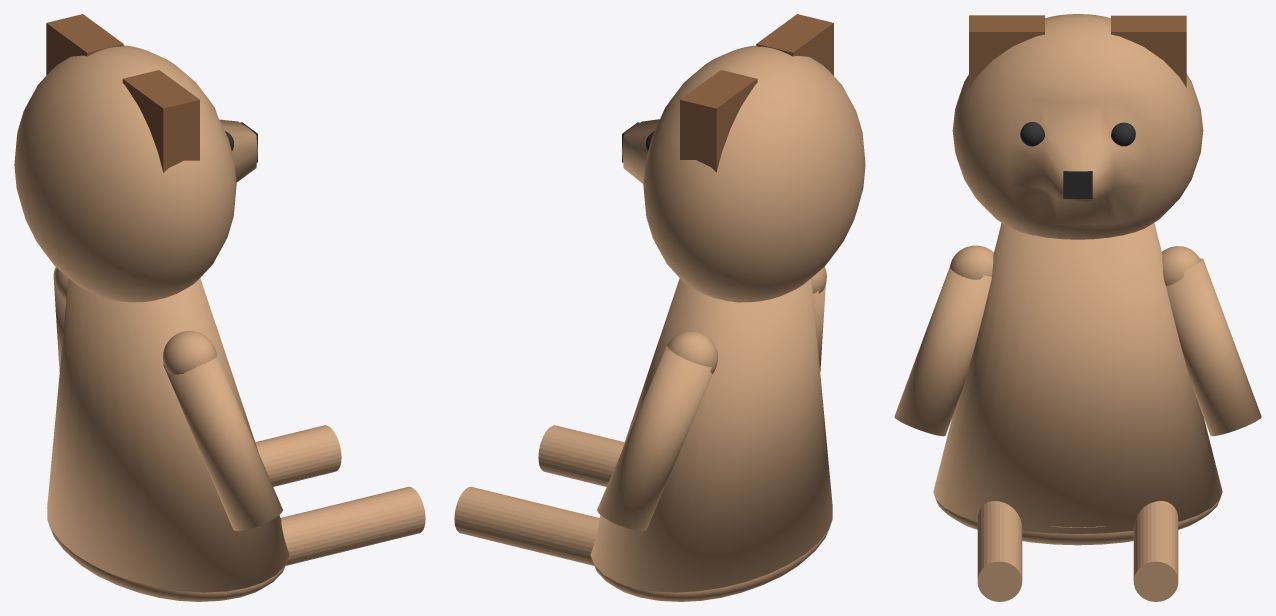
Rendered from bear plushie.fbx.
3 views of the same model, side by side, from view 1: azimuth 30°, elevation 25°; view 2: azimuth 150°, elevation 25°; view 3: azimuth 270°, elevation 25° (orthographic). The views are drawn at different scales.
Visible parts, largest first — view 1: Cube; view 2: Cube; view 3: Cube.
Part boxes in pixels (x1,y1,x2,y2): Cube: (14, 14, 425, 601); Cube: (454, 14, 865, 601); Cube: (894, 14, 1261, 601).
Bounding box in the file's own units: 113 × 168 × 116.
